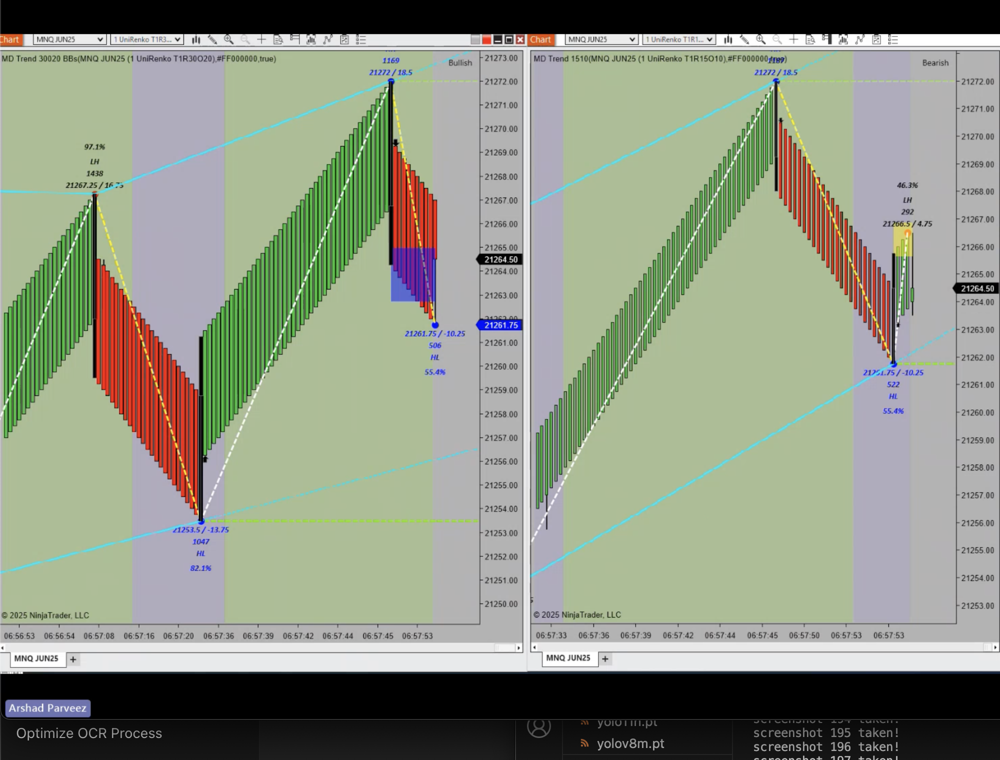HL: (424, 350, 453, 369), (884, 389, 911, 409), (188, 543, 211, 560)
LH: (84, 155, 111, 173), (896, 196, 921, 209)
